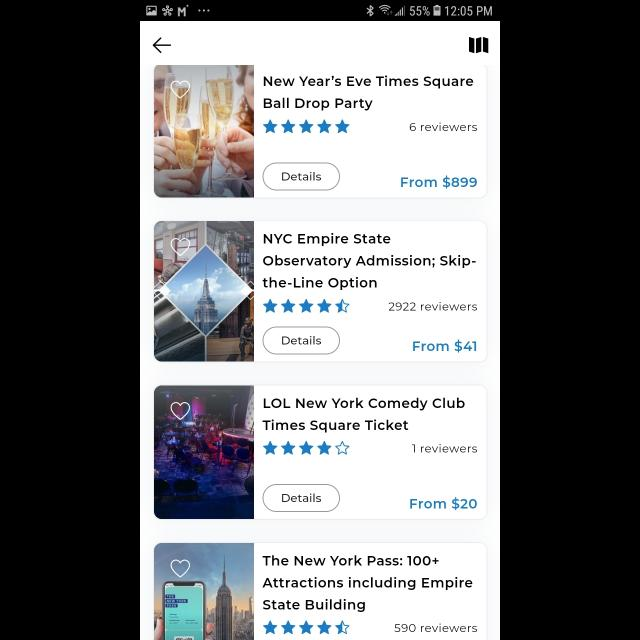icon: (262, 440, 350, 456), (262, 620, 350, 634), (262, 299, 350, 313), (262, 120, 350, 134), (172, 559, 190, 577), (172, 402, 190, 420), (172, 239, 190, 257), (172, 81, 190, 99), (469, 38, 488, 54), (153, 38, 171, 54)
image: (154, 221, 254, 361), (154, 66, 254, 198), (156, 386, 254, 520), (154, 543, 254, 640)
text: (262, 233, 476, 290), (263, 556, 473, 612), (263, 76, 473, 112), (263, 397, 465, 433), (401, 176, 477, 188), (410, 498, 478, 510), (414, 340, 476, 352), (388, 302, 478, 310), (394, 624, 478, 632), (409, 122, 476, 132), (412, 443, 478, 452)
textbutton: (263, 483, 341, 512), (263, 326, 341, 354), (264, 163, 340, 191)
uppertaskbar: (140, 1, 500, 22)
